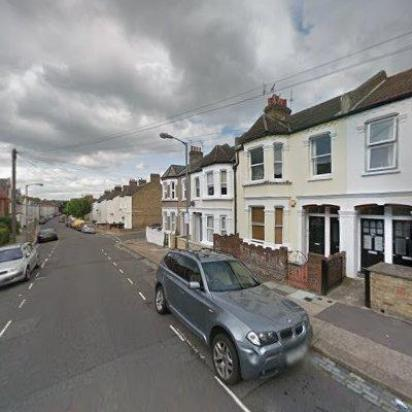stationary-car-onstreet: (154, 246, 312, 386), (0, 242, 42, 287), (36, 229, 58, 243), (82, 223, 95, 232)
